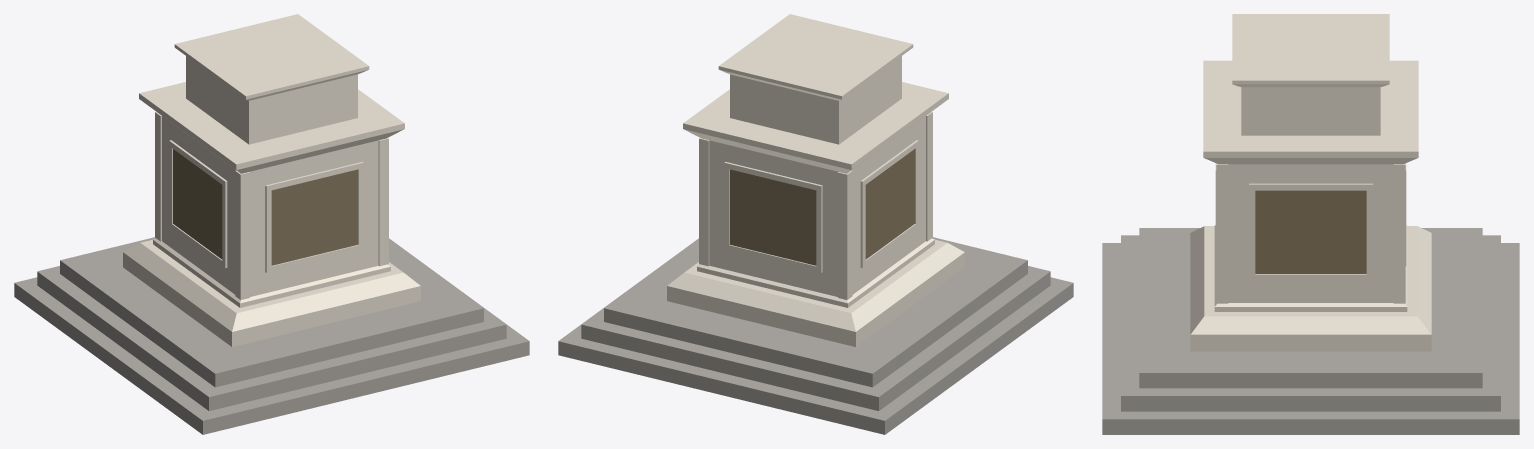
File: monument-basse.glb
3 views of the same model, side by side, from view 1: azimuth 30°, elevation 25°; view 2: azimuth 150°, elevation 25°; view 3: azimuth 270°, elevation 25° (orthographic). The views are drawn at different scales.
Visible parts, largest first — view 1: monument; view 2: monument; view 3: monument.
Part boxes in pixels (<box>): monument: <box>14,14,529,434</box>; monument: <box>558,14,1073,434</box>; monument: <box>1102,14,1519,434</box>.
Bounding box in the file's own units: 9 × 7.13 × 9.
